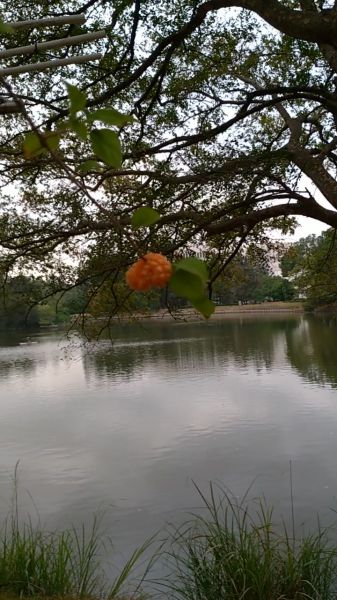eggs: (122, 247, 175, 298)
